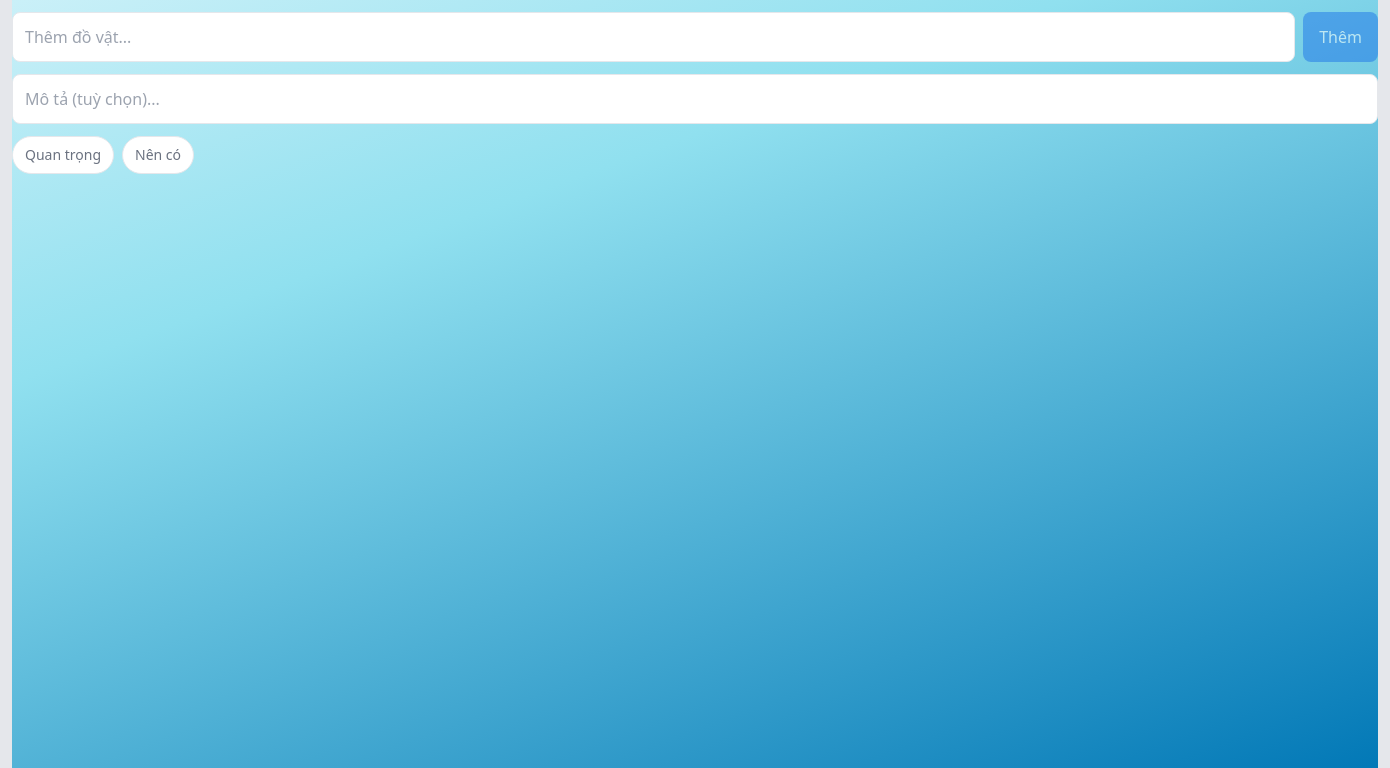
Test case: AddItemForm — tag toggle › shows 'Không' clear button when a tag is selected
This screenshot has width=1390, height=768.
expect the button "Không" is not shown: met
Click the button "Quan trọng" at coordinates (63, 155), box [12, 136, 114, 174]
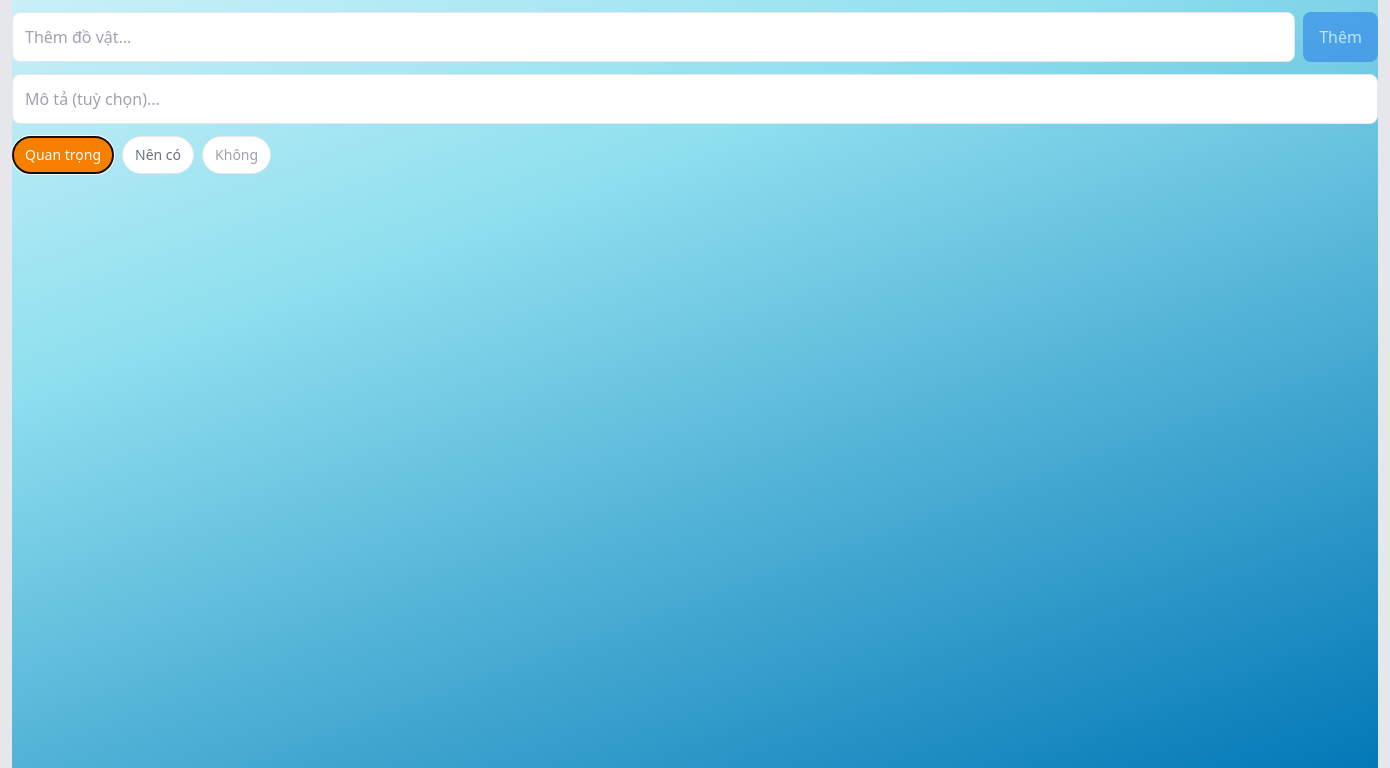
expect the button "Không" is shown: met, box [202, 136, 271, 174]
